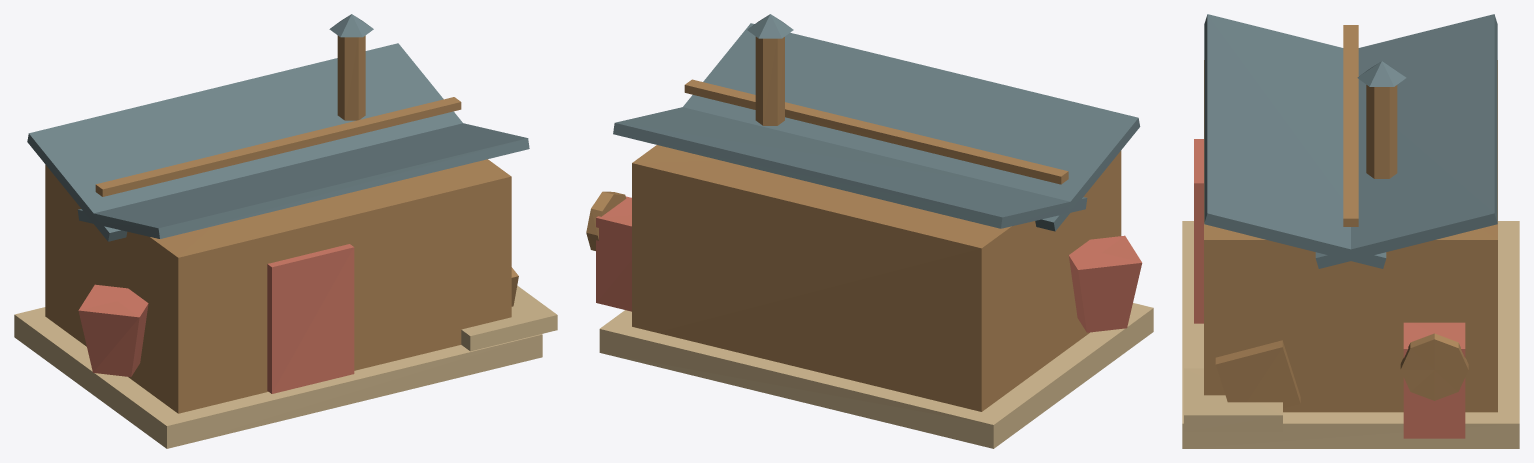
File: Flour-Mill.glb
3 views of the same model, side by side, from view 1: azimuth 30°, elevation 25°; view 2: azimuth 150°, elevation 25°; view 3: azimuth 270°, elevation 25° (orthographic). The views are drawn at different scales.
Parts seen in each view (by area): view 1: wind-pump-static-flour-mill-pale-mill-house, wind-pump-static-flour-mill-galvanized-roof, wind-pump-static-flour-mill-stone-curb, wind-pump-static-flour-mill-weathered-timber, wind-pump-static-flour-mill-dark-processing-frame; view 2: wind-pump-static-flour-mill-pale-mill-house, wind-pump-static-flour-mill-galvanized-roof, wind-pump-static-flour-mill-stone-curb, wind-pump-static-flour-mill-weathered-timber, wind-pump-static-flour-mill-dark-processing-frame; view 3: wind-pump-static-flour-mill-galvanized-roof, wind-pump-static-flour-mill-pale-mill-house, wind-pump-static-flour-mill-stone-curb, wind-pump-static-flour-mill-dark-processing-frame, wind-pump-static-flour-mill-weathered-timber.
Part boxes in pixels (box(x1,y1,x2,y2)): wind-pump-static-flour-mill-pale-mill-house: box(45, 159, 511, 413); wind-pump-static-flour-mill-galvanized-roof: box(27, 14, 529, 241); wind-pump-static-flour-mill-stone-curb: box(14, 285, 557, 448); wind-pump-static-flour-mill-weathered-timber: box(78, 244, 354, 393); wind-pump-static-flour-mill-dark-processing-frame: box(95, 35, 518, 306); wind-pump-static-flour-mill-pale-mill-house: box(632, 145, 1121, 411); wind-pump-static-flour-mill-galvanized-roof: box(613, 14, 1140, 231); wind-pump-static-flour-mill-stone-curb: box(599, 303, 1153, 448); wind-pump-static-flour-mill-weathered-timber: box(596, 196, 1142, 332); wind-pump-static-flour-mill-dark-processing-frame: box(586, 37, 1068, 250); wind-pump-static-flour-mill-galvanized-roof: box(1204, 14, 1497, 268); wind-pump-static-flour-mill-pale-mill-house: box(1204, 60, 1497, 412); wind-pump-static-flour-mill-stone-curb: box(1182, 221, 1519, 448); wind-pump-static-flour-mill-dark-processing-frame: box(1215, 25, 1468, 408); wind-pump-static-flour-mill-weathered-timber: box(1194, 139, 1465, 438).
Bounding box in the file's own units: 3.72 × 2.38 × 2.18.
